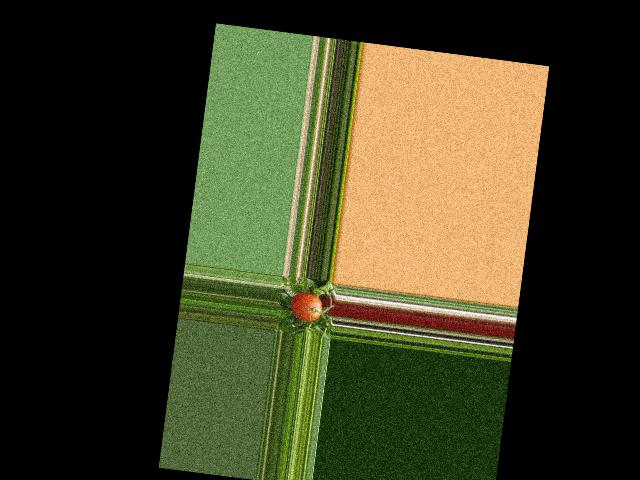tomato: (289, 291, 323, 323)
